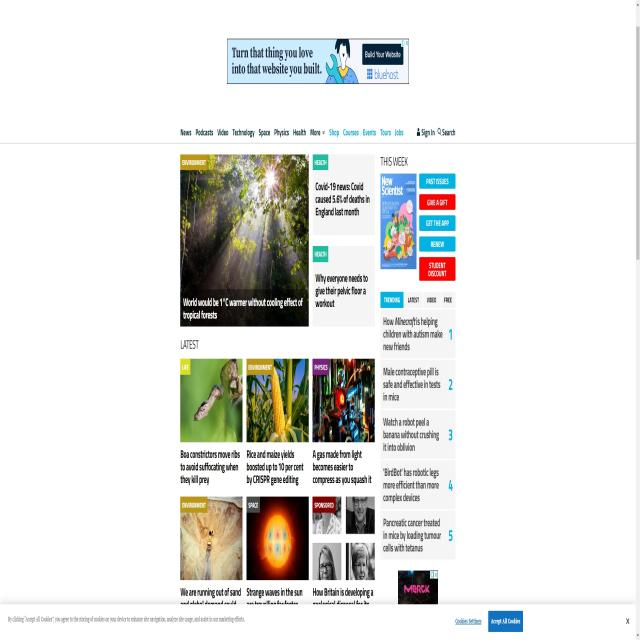menu-bar: (178, 124, 464, 140)
tab-bar: (380, 291, 455, 310)
